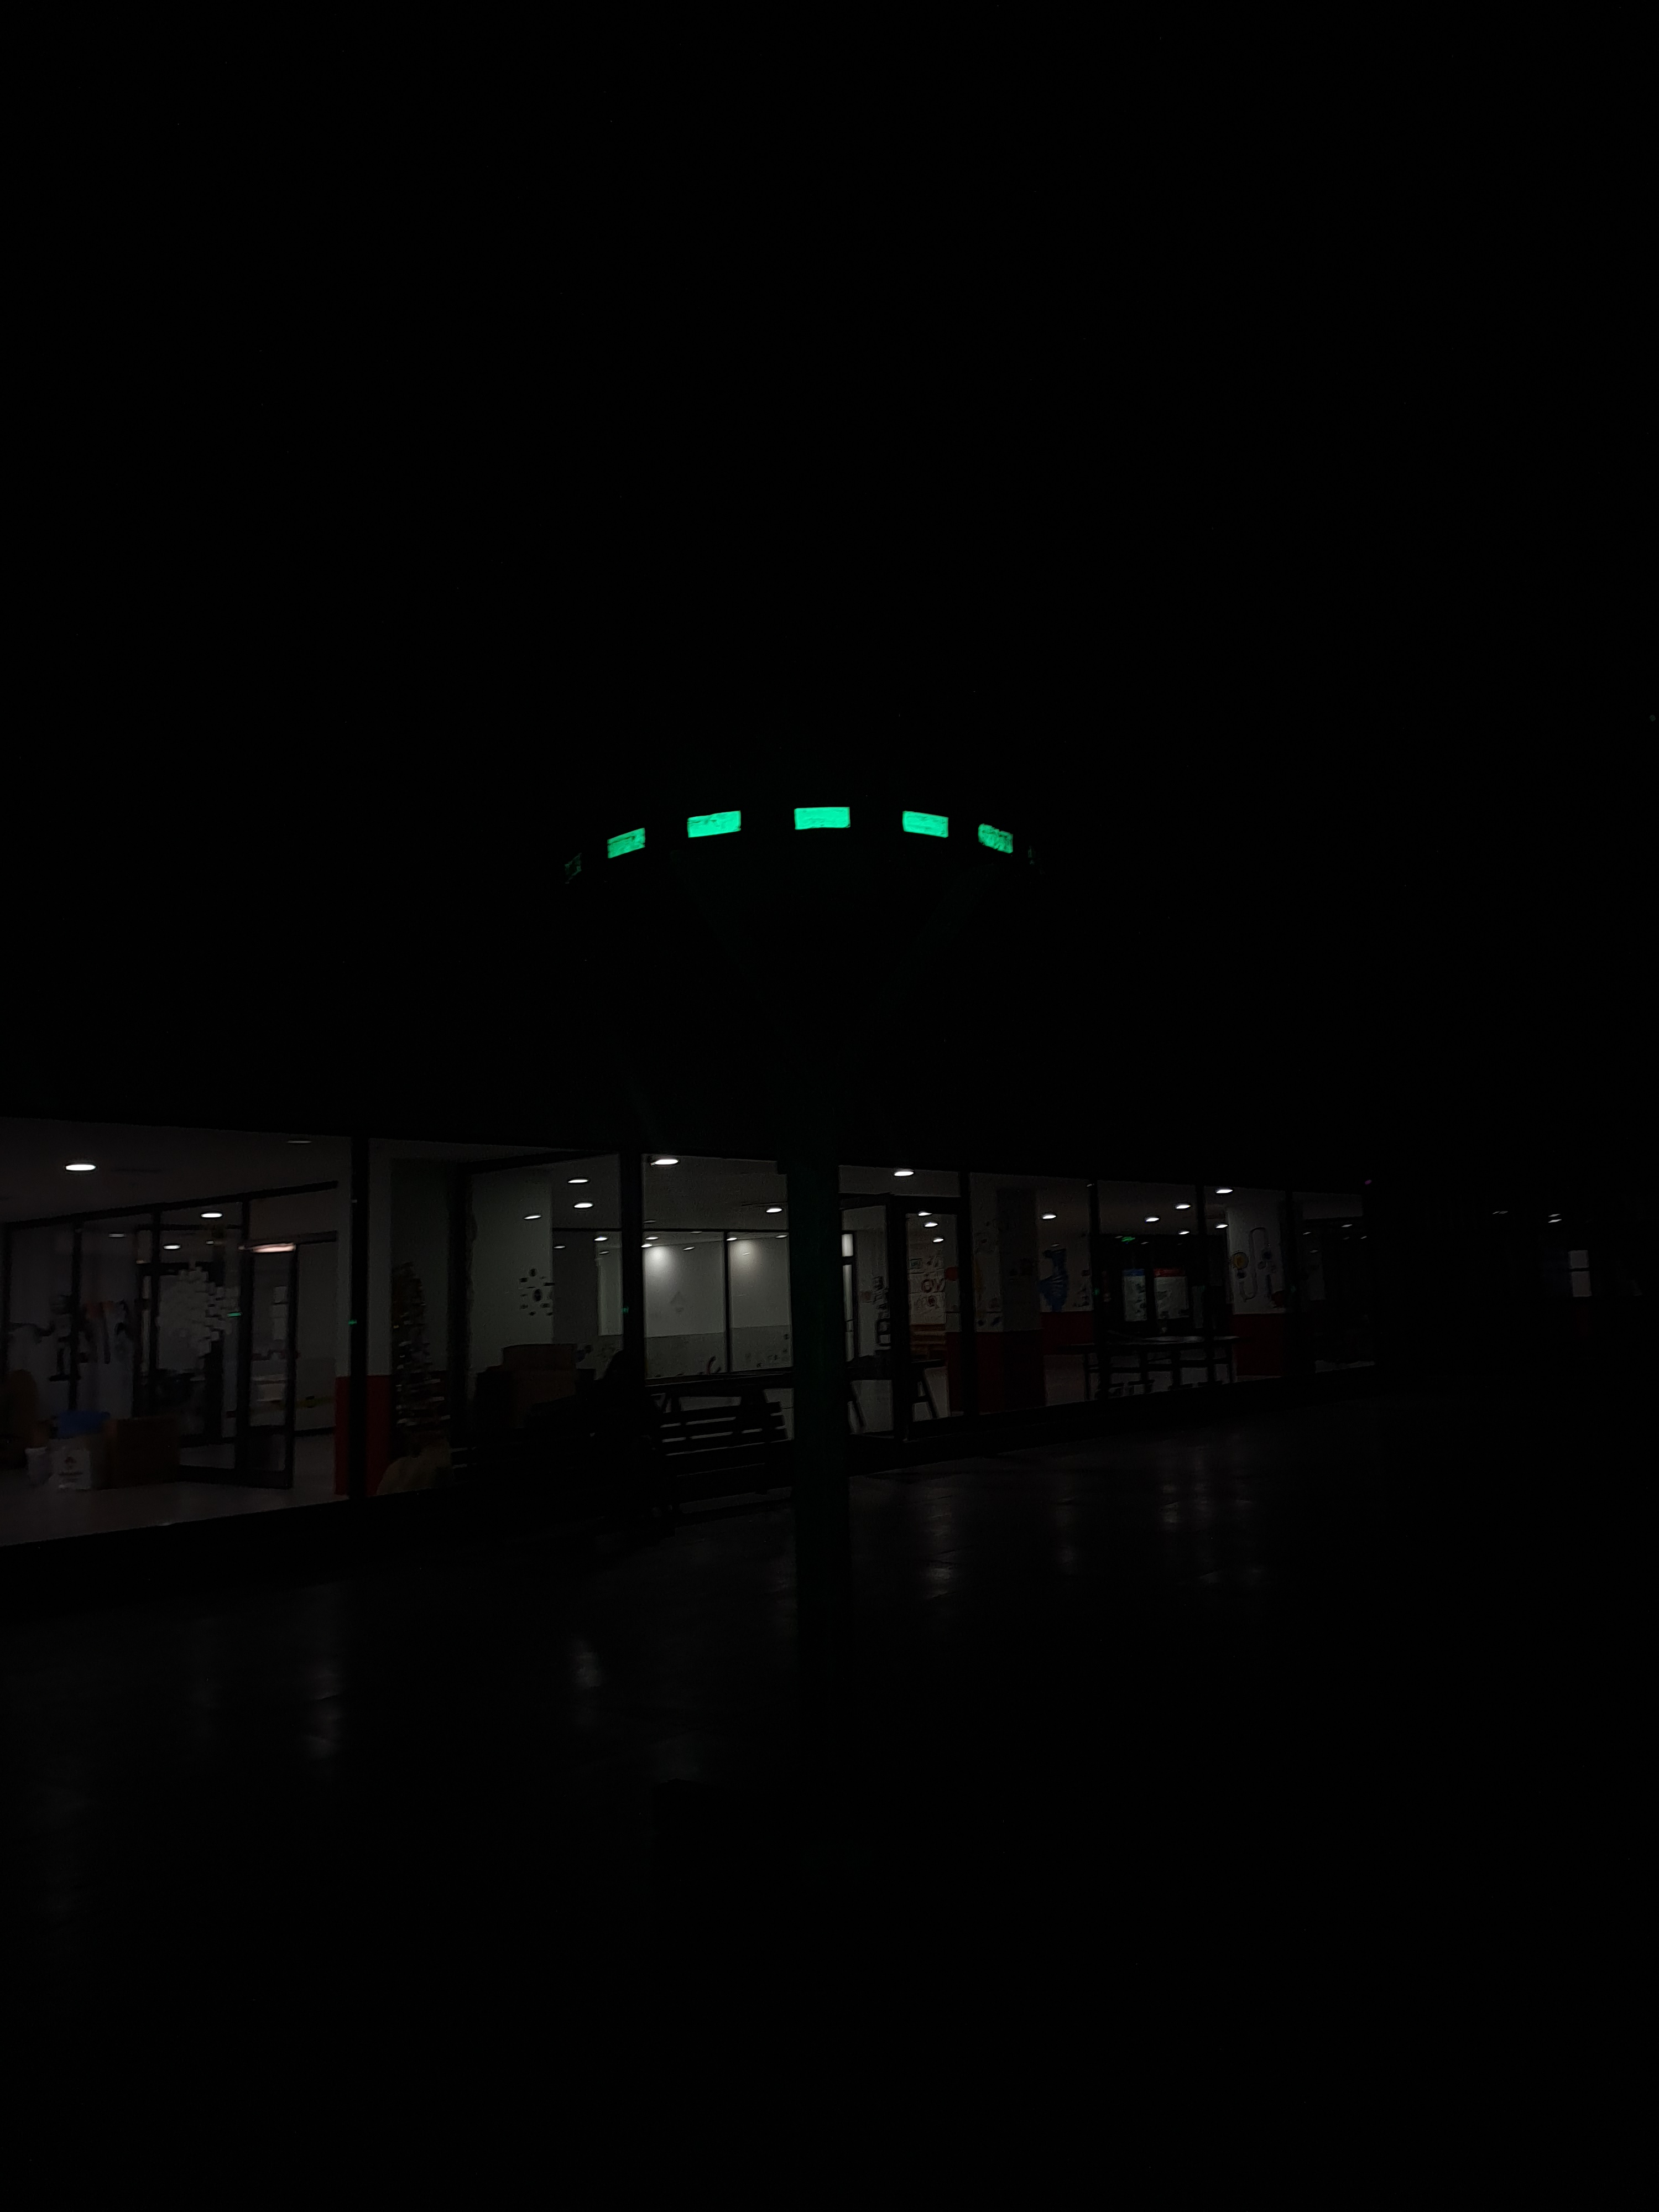hoop: (601, 805, 1019, 876)
